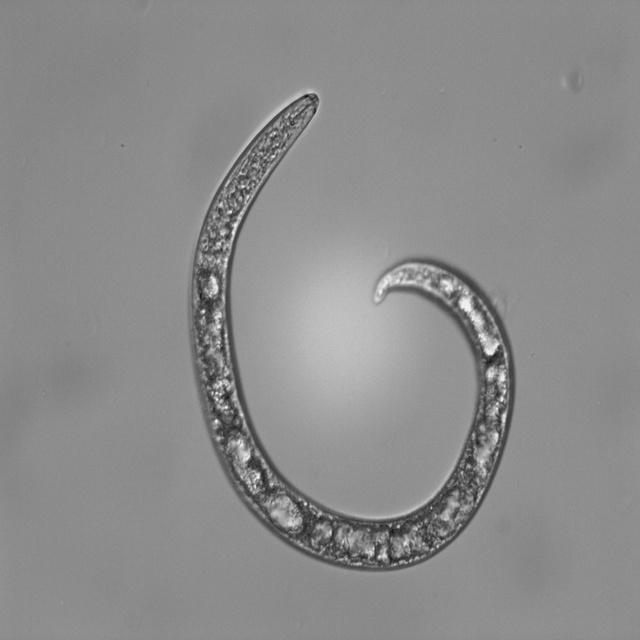Helicotylenchus: (184, 88, 524, 576)
